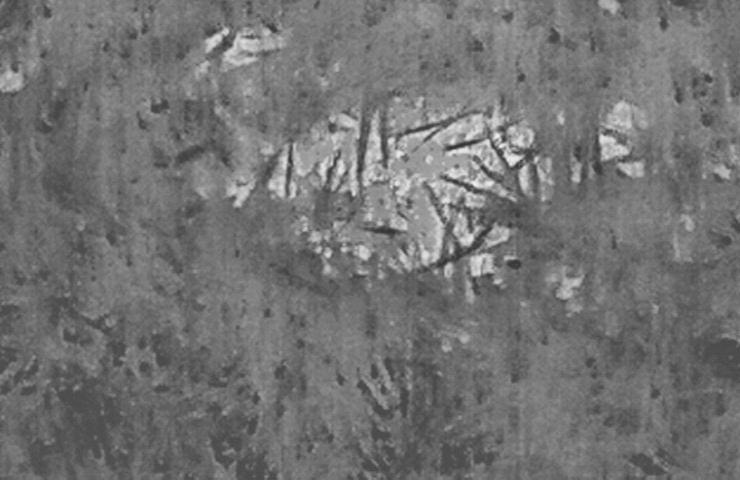landmines: (265, 81, 563, 321)
